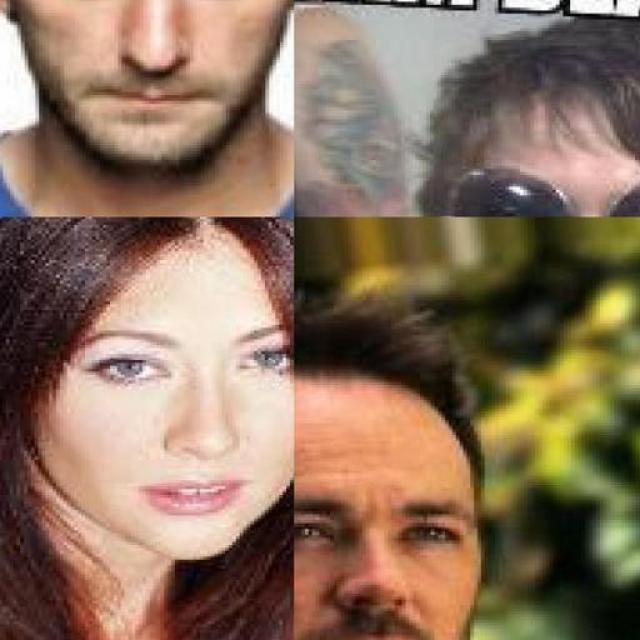bareface: (47, 217, 309, 546)
